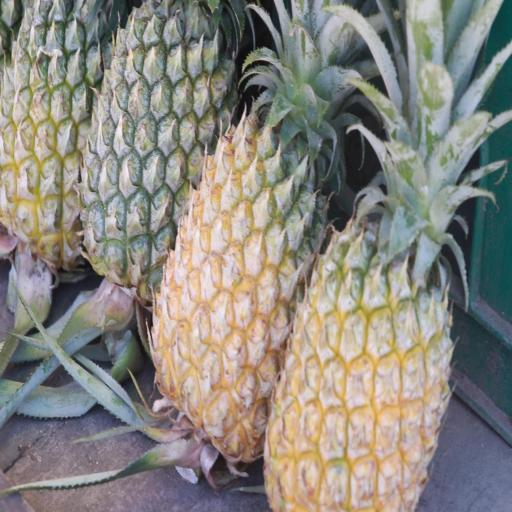------------------------------: (0, 0, 122, 278)
Pineapple - v8 v1: (145, 0, 333, 471), (262, 134, 456, 511)
